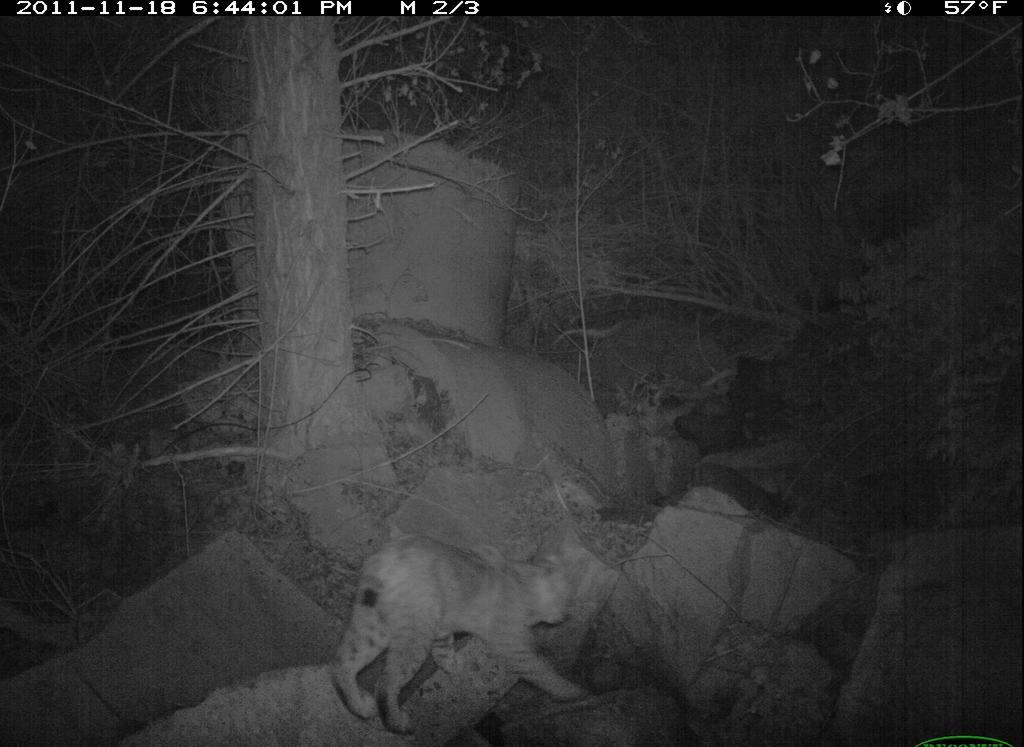bobcat: (326, 505, 597, 742)
